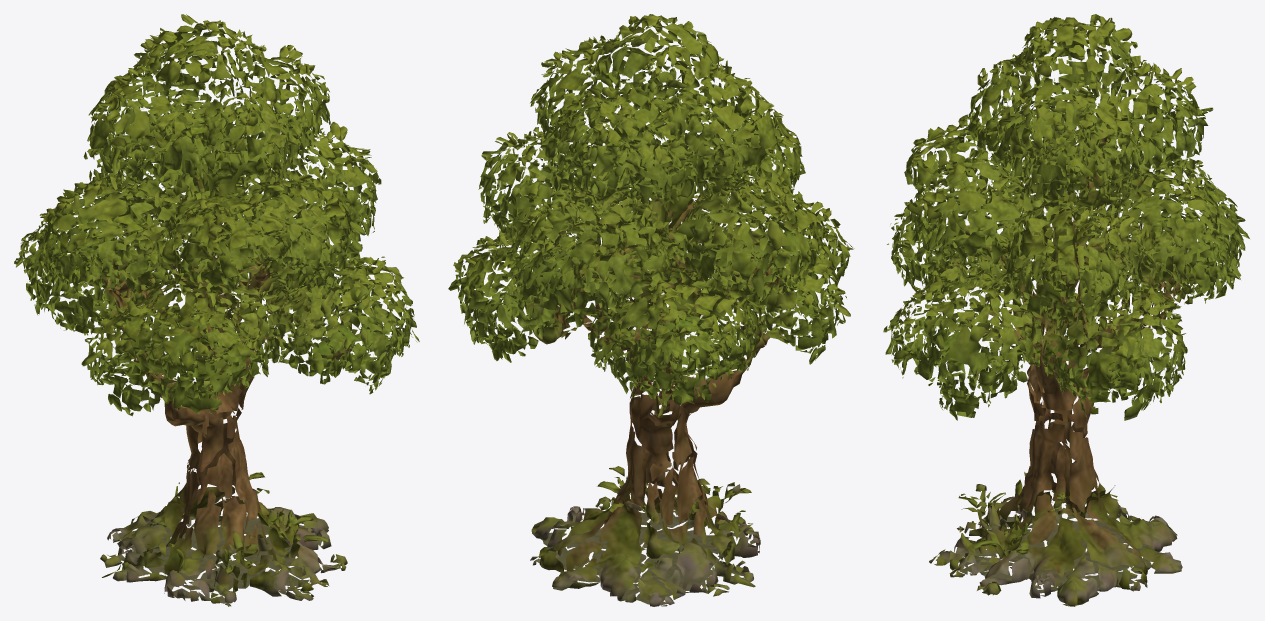
File: tree.glb
The picture shows the model from 3 angles, left to right: view 1: azimuth 30°, elevation 25°; view 2: azimuth 150°, elevation 25°; view 3: azimuth 270°, elevation 25°; orthographic projection.
Bounding box in the file's own units: 1.24 × 1.89 × 1.18.
1 material, 1 textured.
